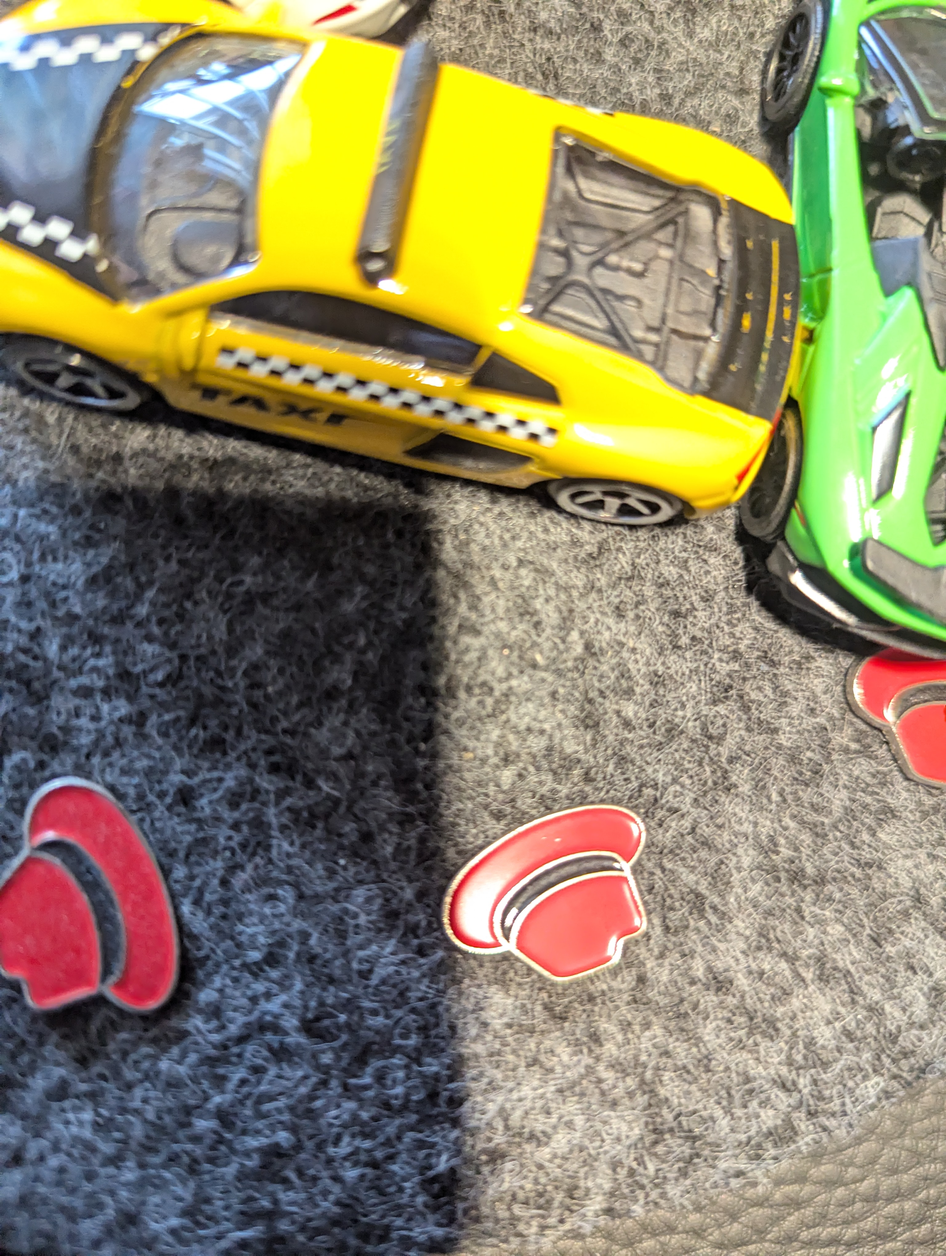Car: (0, 0, 810, 560)
Red-Hat: (0, 730, 210, 1063), (394, 781, 688, 1017), (813, 603, 946, 819)
